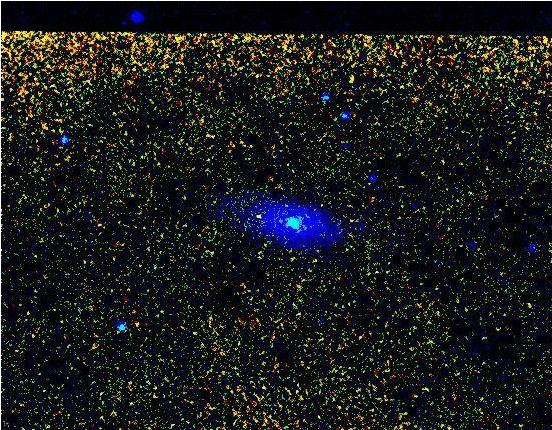star: (244, 199, 274, 229)
